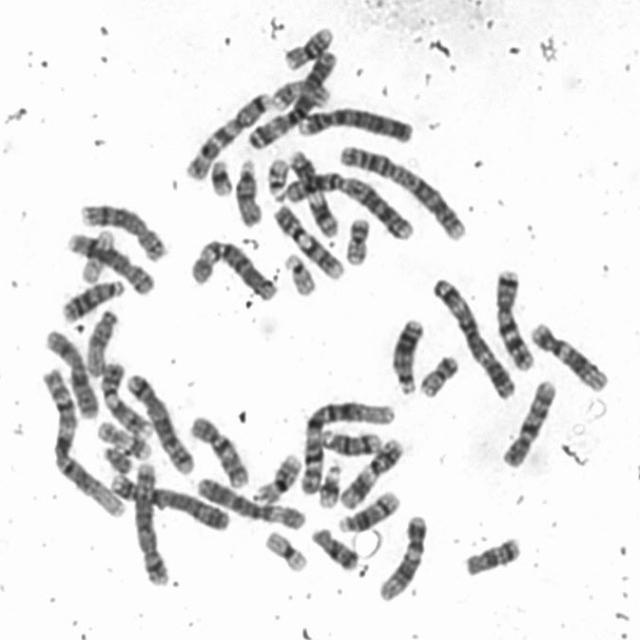A1: (38, 364, 129, 520), (297, 396, 398, 498)
A2: (334, 140, 469, 242), (280, 166, 418, 242)
A3: (427, 272, 517, 400), (244, 45, 340, 151)
B4: (105, 469, 233, 534), (294, 102, 415, 143)
B5: (122, 369, 195, 476), (129, 457, 172, 588)
C10: (498, 376, 558, 469), (185, 410, 251, 490)
C11: (337, 432, 406, 512), (286, 146, 340, 240)
C12: (528, 318, 610, 392), (376, 510, 430, 603)
C6: (193, 472, 309, 532), (187, 236, 279, 302)
C7: (181, 85, 273, 183), (491, 264, 536, 372)
C8: (64, 226, 157, 298), (74, 196, 169, 264)
C9: (271, 202, 348, 282), (97, 356, 155, 440)
D13: (57, 274, 127, 324), (389, 314, 427, 396)
D14: (336, 487, 402, 534), (317, 424, 384, 456)
D15: (82, 304, 121, 378), (231, 156, 264, 230)
E16: (250, 448, 304, 504), (280, 21, 336, 72)
E17: (94, 416, 154, 462), (268, 76, 334, 111)
E18: (461, 533, 522, 578), (308, 523, 362, 572)
F19: (76, 226, 117, 286), (261, 525, 309, 573)
F20: (416, 350, 461, 400), (340, 212, 373, 266)
G21: (316, 459, 344, 509), (206, 156, 234, 198)
G22: (280, 250, 318, 298), (263, 154, 291, 203)
X: (39, 324, 101, 419)
Y: (100, 442, 134, 474)
